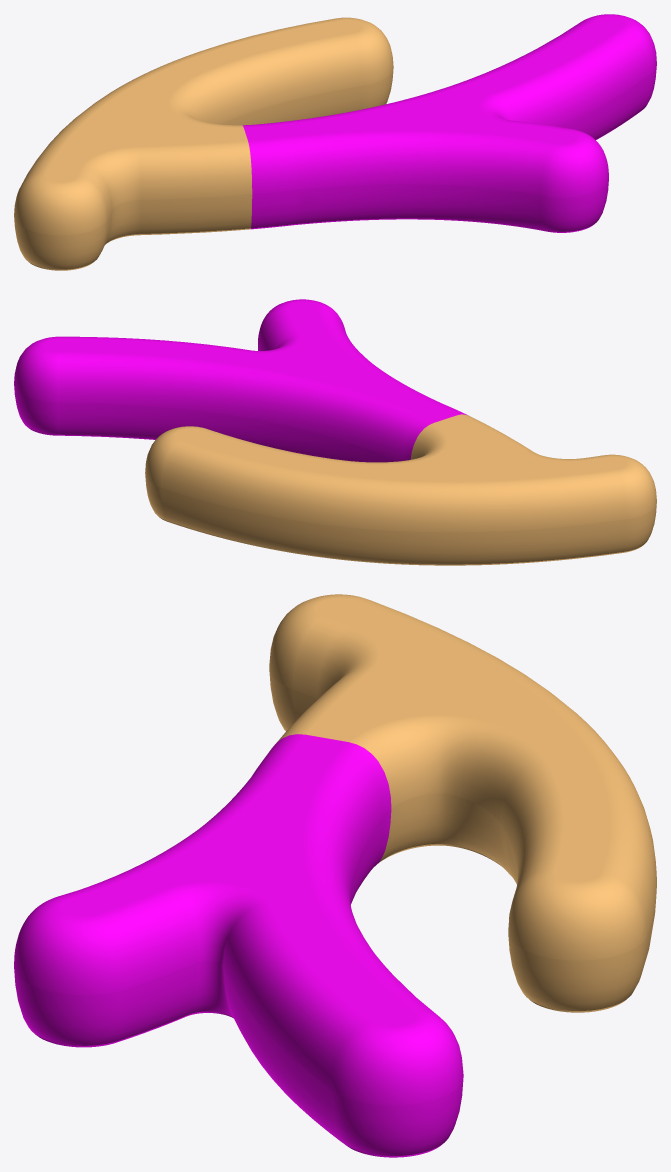
The model's file is 엔틀러.glb.
The picture shows the model from 3 angles, top to bottom: view 1: azimuth 30°, elevation 25°; view 2: azimuth 150°, elevation 25°; view 3: azimuth 270°, elevation 25°; orthographic projection. The views are drawn at different scales.
Bounding box in the file's own units: 0.3563 × 0.0419 × 0.207.
